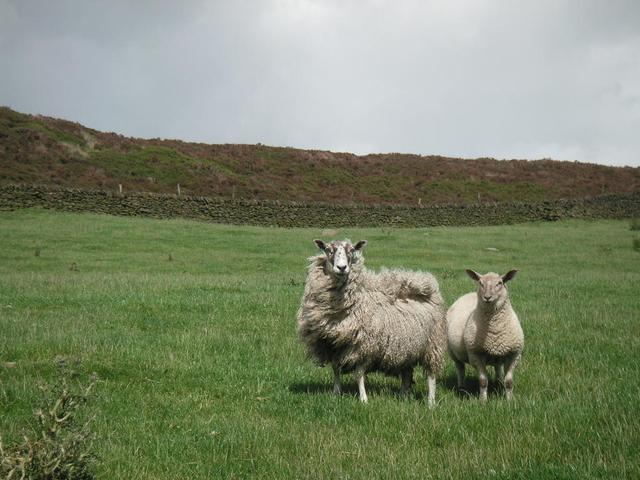sheep: (284, 206, 448, 420), (446, 258, 530, 407)
